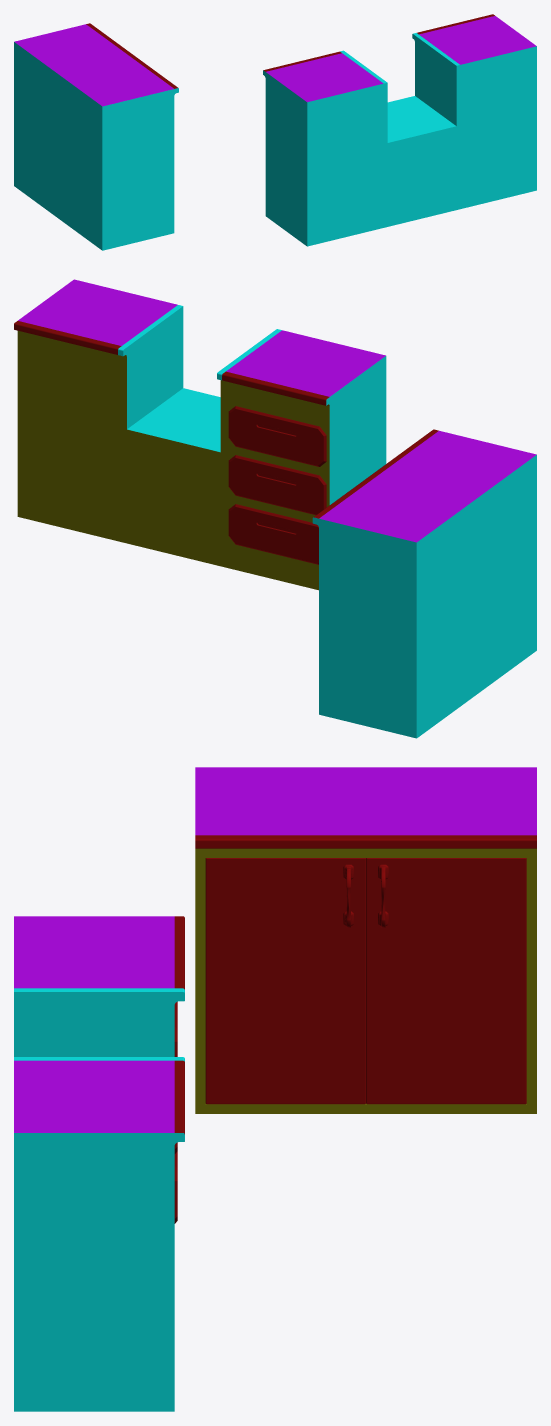
File: Module_References.fbx
3 views of the same model, one above another, from view 1: azimuth 30°, elevation 25°; view 2: azimuth 150°, elevation 25°; view 3: azimuth 270°, elevation 25° (orthographic). The views are drawn at different scales.
Parts seen in each view (by area): view 1: Module_Cabinet_3, Module_Drawer_3, Module_Empty_3, Module_Void_3; view 2: Module_Cabinet_3, Module_Empty_3, Module_Void_3, Module_Drawer_3, Drawer_1, Drawer_2, Drawer_3; view 3: Module_Empty_3, Module_Cabinet_3, Cabinet_Door_2, Cabinet_Door_1, Module_Drawer_3, Module_Void_3.
Part boxes in pixels (x1,y1,x2,y2): Module_Cabinet_3: (14, 23, 178, 250); Module_Drawer_3: (263, 51, 383, 246); Module_Empty_3: (417, 14, 536, 208); Module_Void_3: (340, 33, 460, 227); Module_Cabinet_3: (312, 429, 536, 738); Module_Empty_3: (14, 279, 177, 541); Module_Void_3: (118, 305, 281, 567); Module_Drawer_3: (222, 330, 386, 590); Drawer_1: (228, 406, 326, 466); Drawer_2: (228, 455, 326, 514); Drawer_3: (228, 504, 318, 564); Module_Empty_3: (14, 1060, 184, 1411); Module_Cabinet_3: (195, 767, 536, 1113); Cabinet_Door_2: (366, 858, 526, 1104); Cabinet_Door_1: (205, 858, 365, 1104); Module_Drawer_3: (14, 916, 184, 989); Module_Void_3: (14, 988, 184, 1061).
Size of the model in its own units: 253 by 90 by 153.
